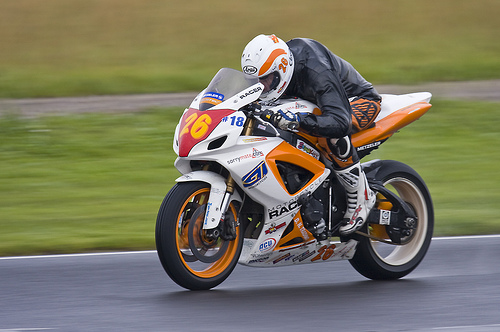helmet: (242, 37, 292, 95)
